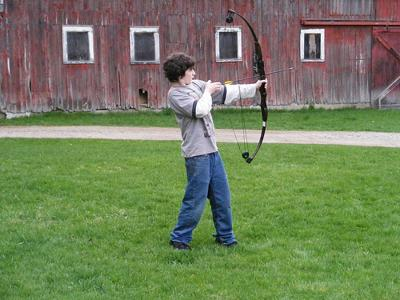person: (162, 51, 269, 253)
